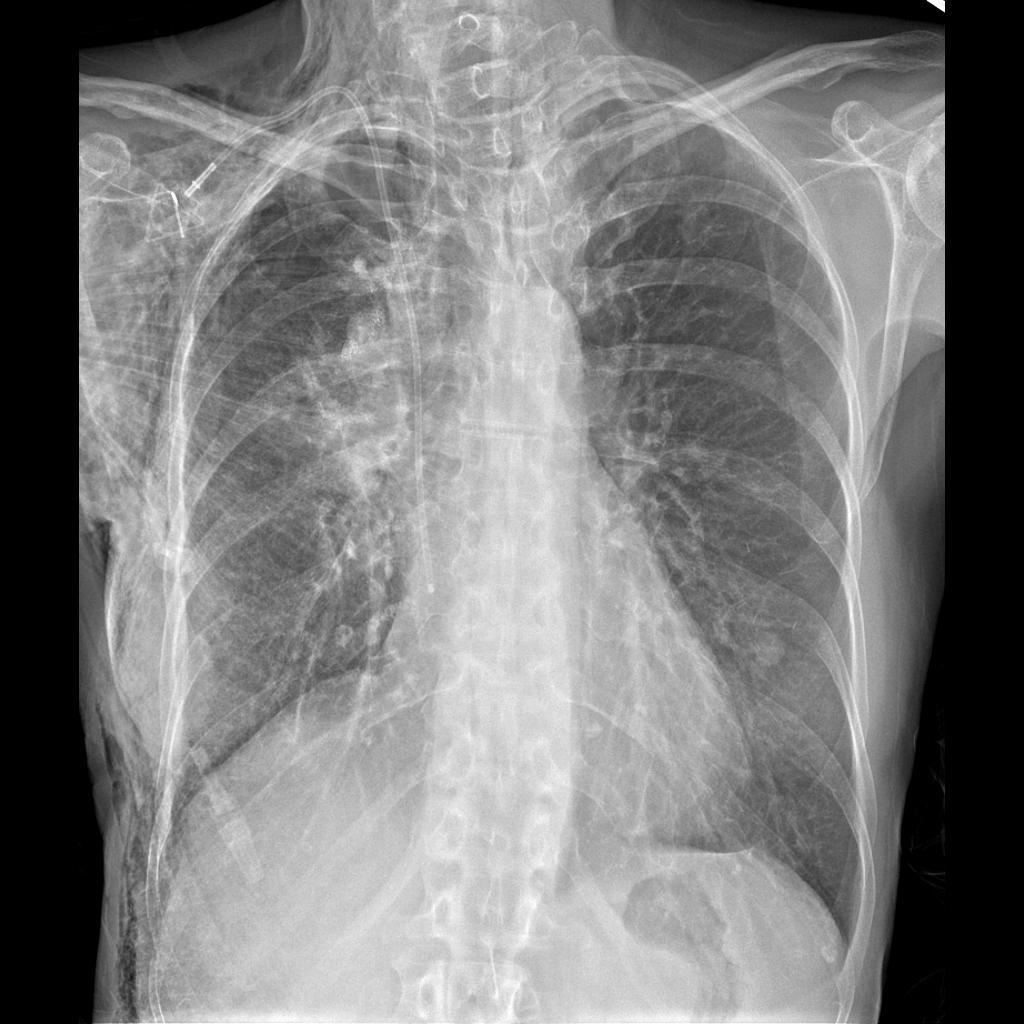Nodule: (753, 631, 792, 673)
